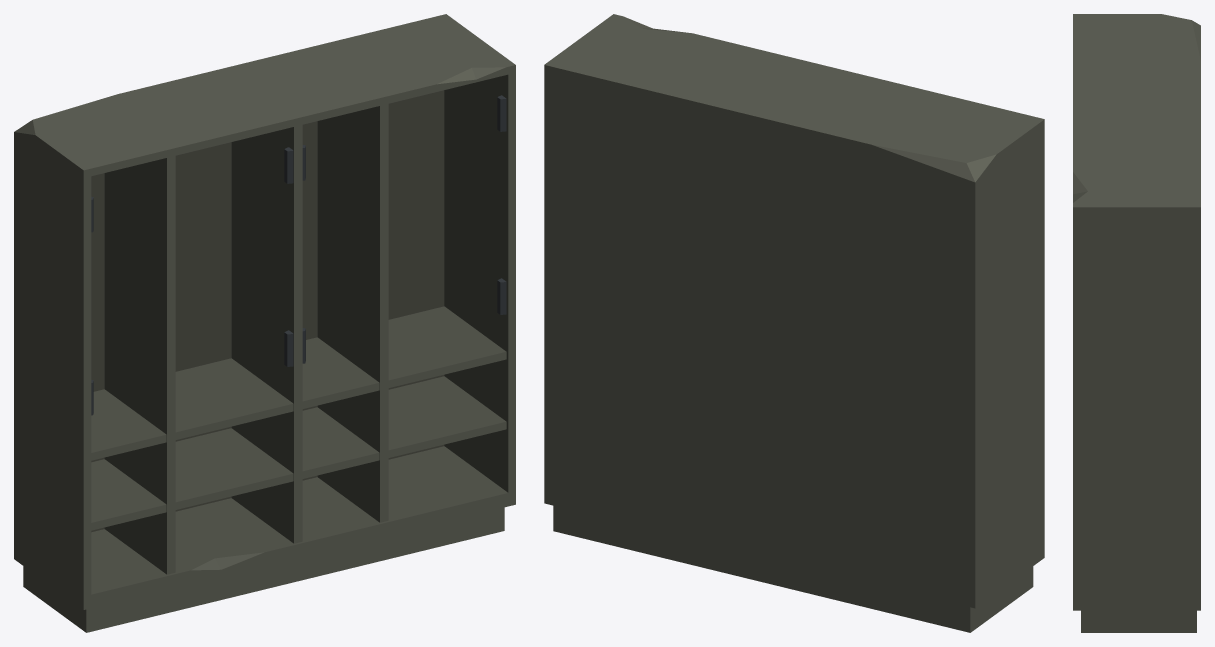
Rendered from SM_Prop_Lockers_01.fbx.
3 views of the same model, side by side, from view 1: azimuth 30°, elevation 25°; view 2: azimuth 150°, elevation 25°; view 3: azimuth 270°, elevation 25° (orthographic). The views are drawn at different scales.
Parts seen in each view (by area): view 1: SM_Prop_Lockers_01; view 2: SM_Prop_Lockers_01; view 3: SM_Prop_Lockers_01.
Boxes of the visible parts, x1,y1,x2,y2 form: SM_Prop_Lockers_01: (14,14,515,632); SM_Prop_Lockers_01: (544,14,1044,632); SM_Prop_Lockers_01: (1073,14,1200,632).
Bounding box in the file's own units: 220 × 228 × 61.5.
